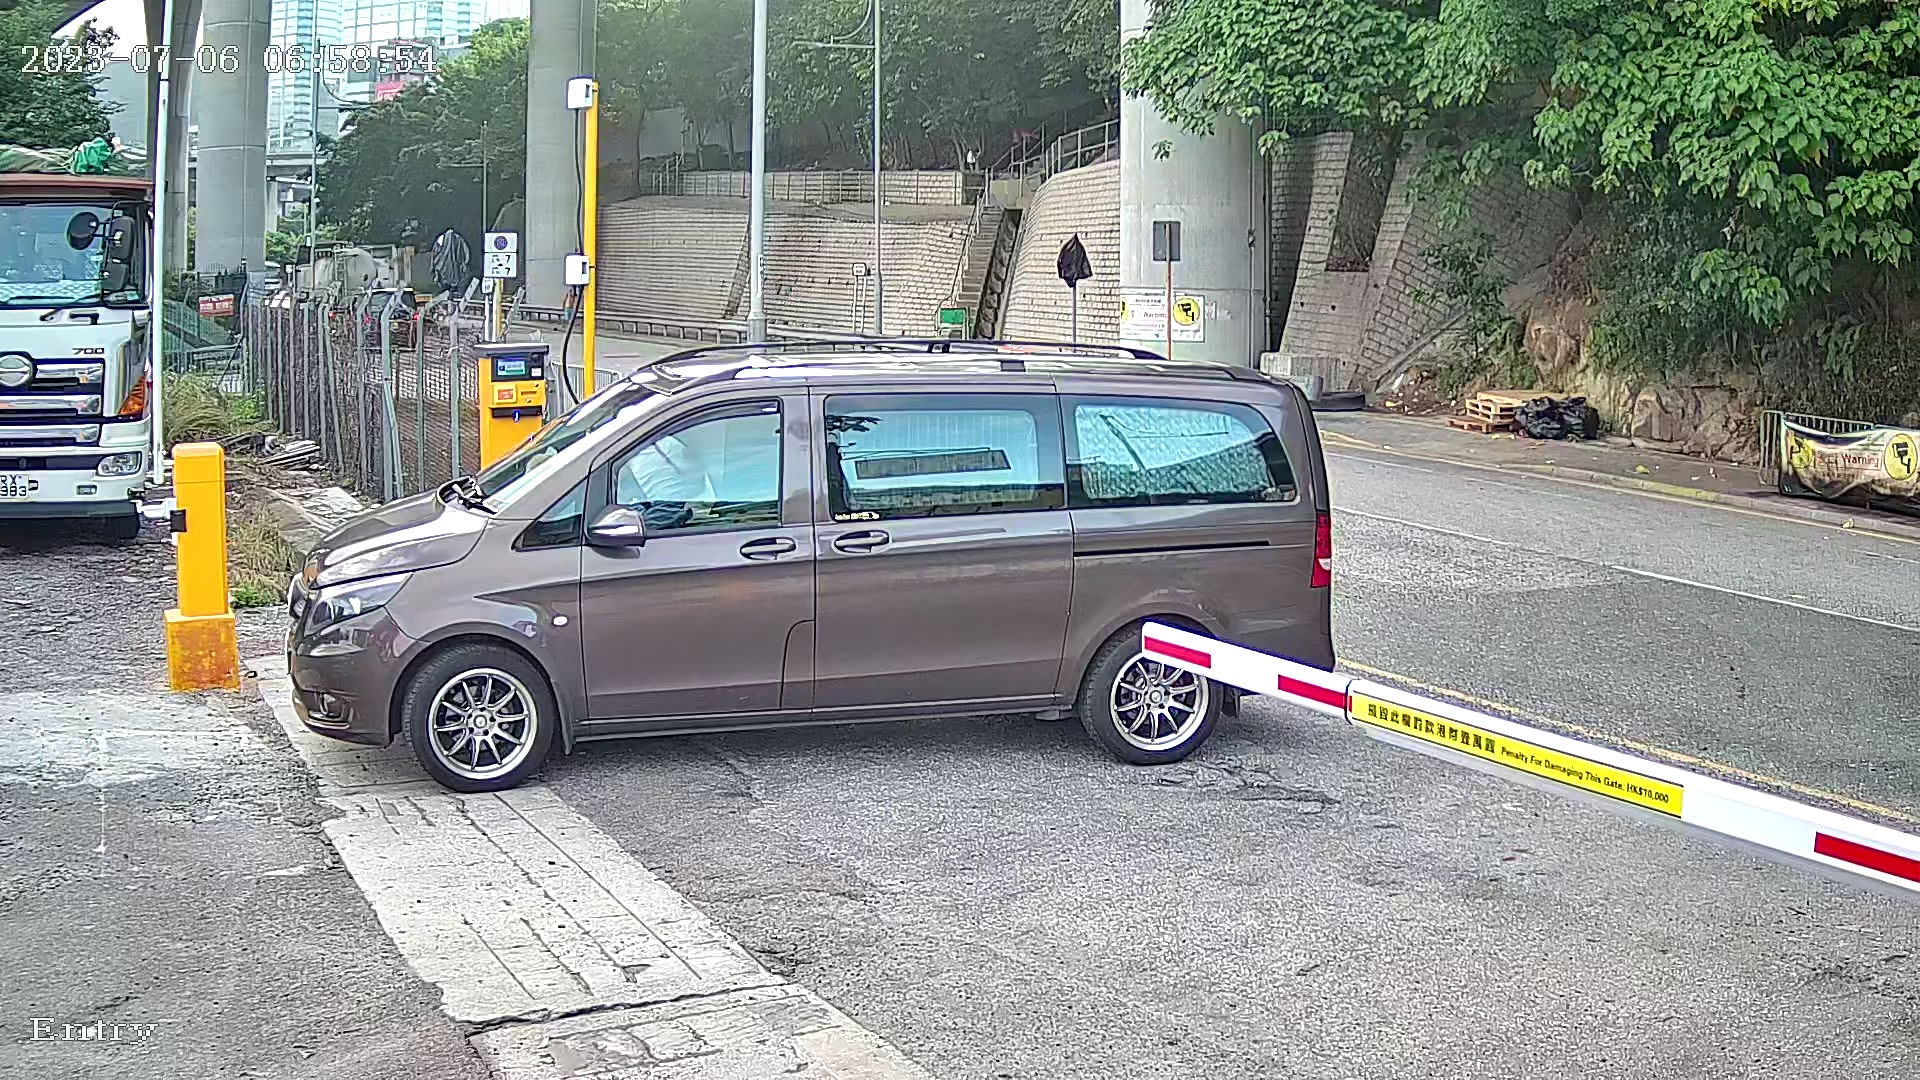privatecar: (262, 276, 1369, 837)
